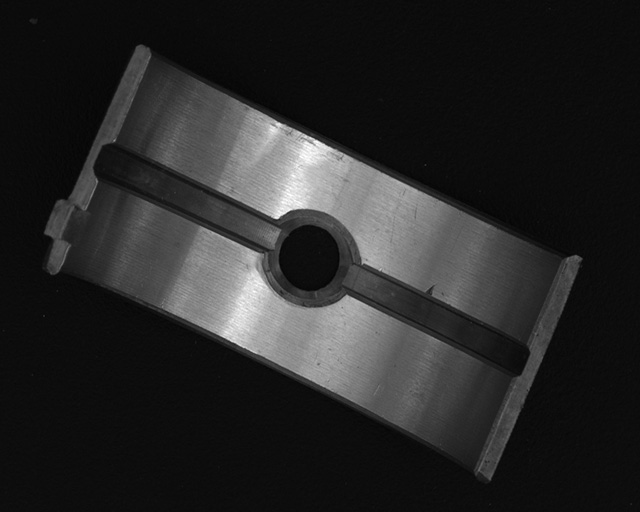bruise: (423, 283, 436, 296)
gap: (347, 263, 527, 375), (97, 144, 280, 250)
hole: (270, 213, 351, 302)
